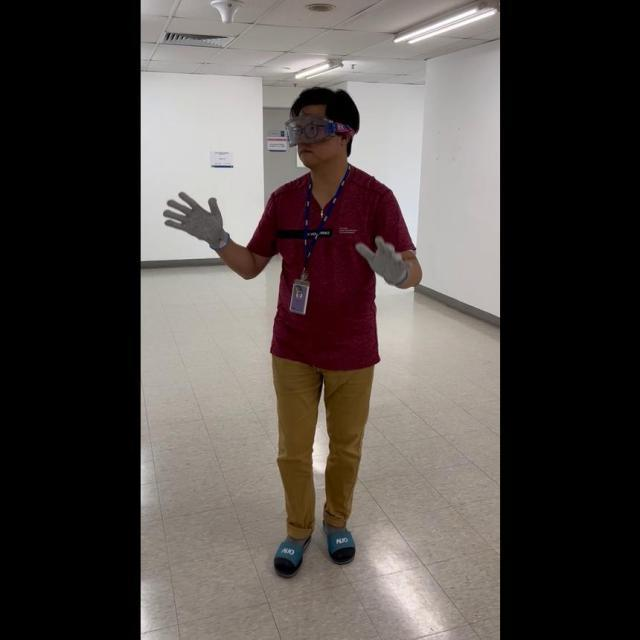gloved_hand: (162, 188, 229, 252), (353, 230, 415, 287)
